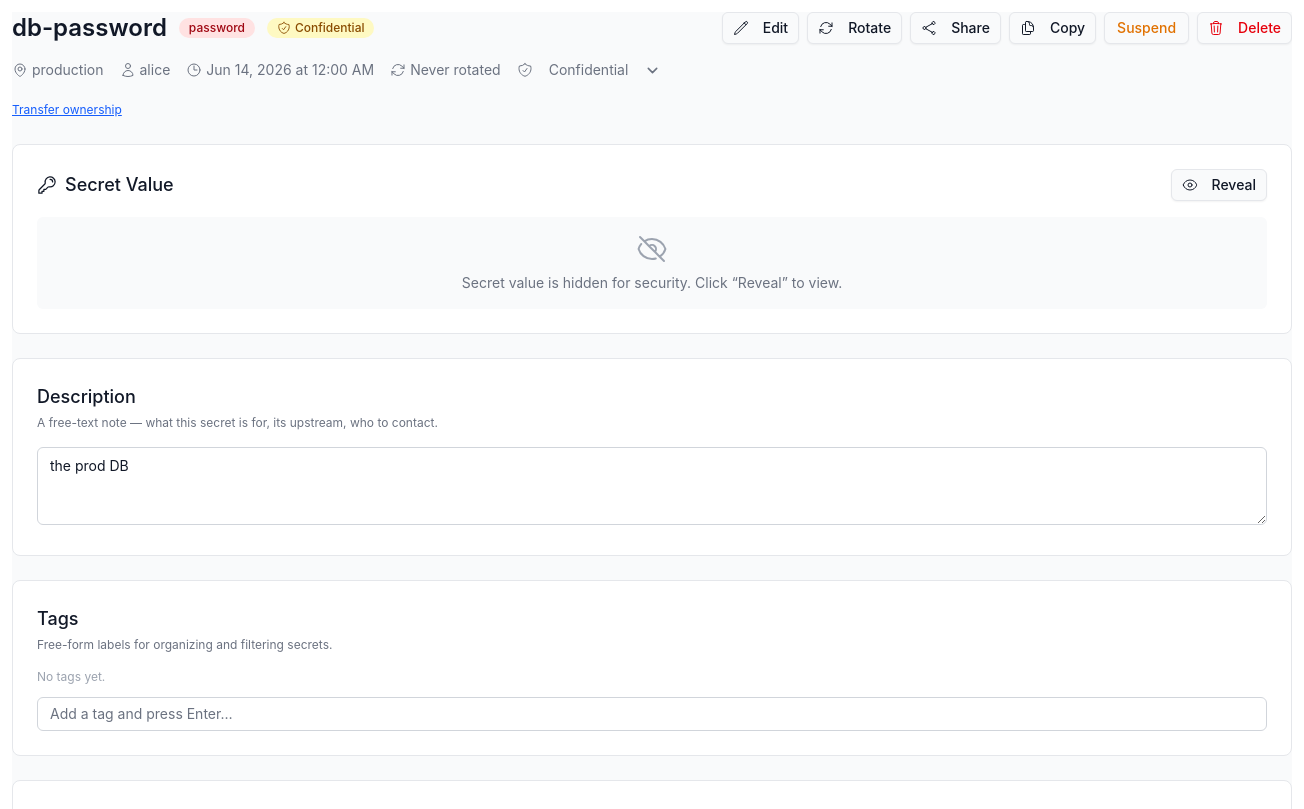
SecretDetailView description › discards a draft edit when Cancel is clicked
Replace the text in the text box showing "the prod DB" with "a different draft": (652, 486) [37,447,1267,525]
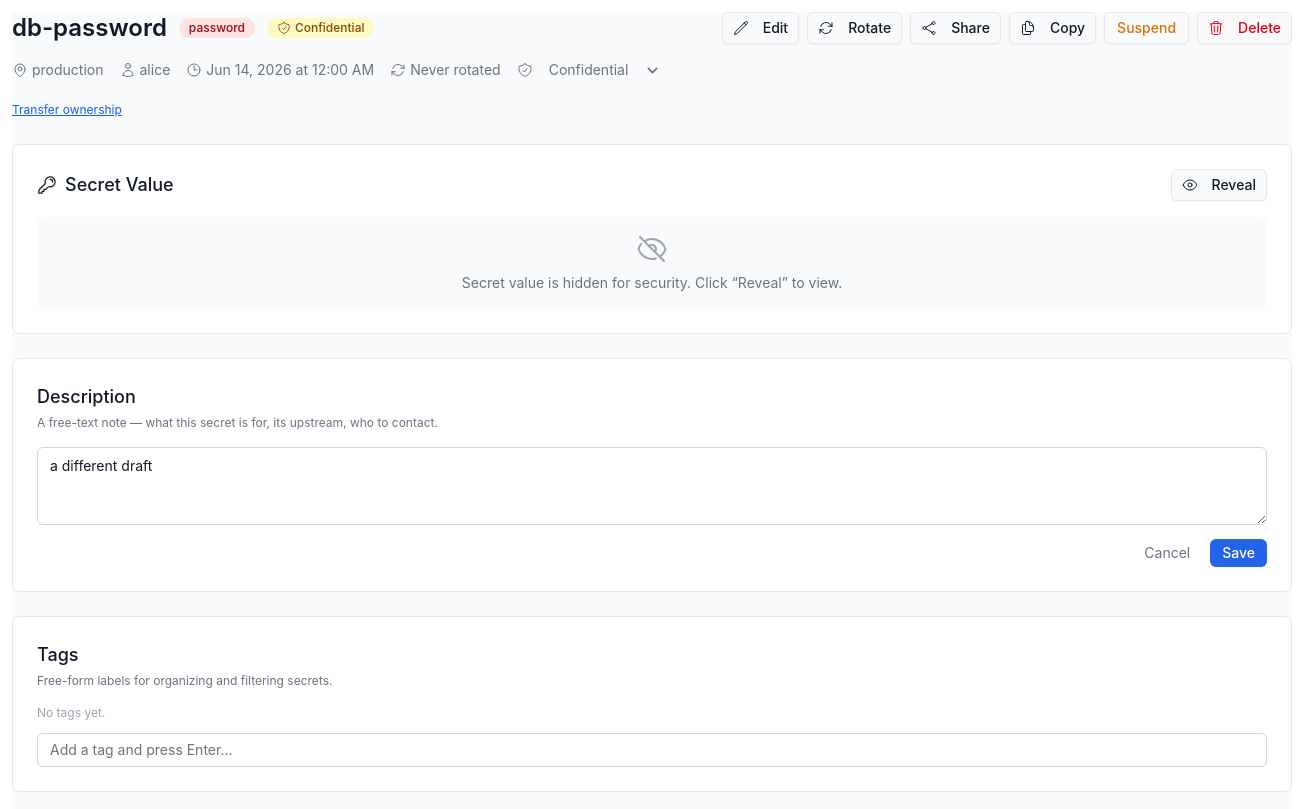
Now the button "Cancel" is shown
Click the button "Cancel": (1167, 553) [1132,539,1202,567]
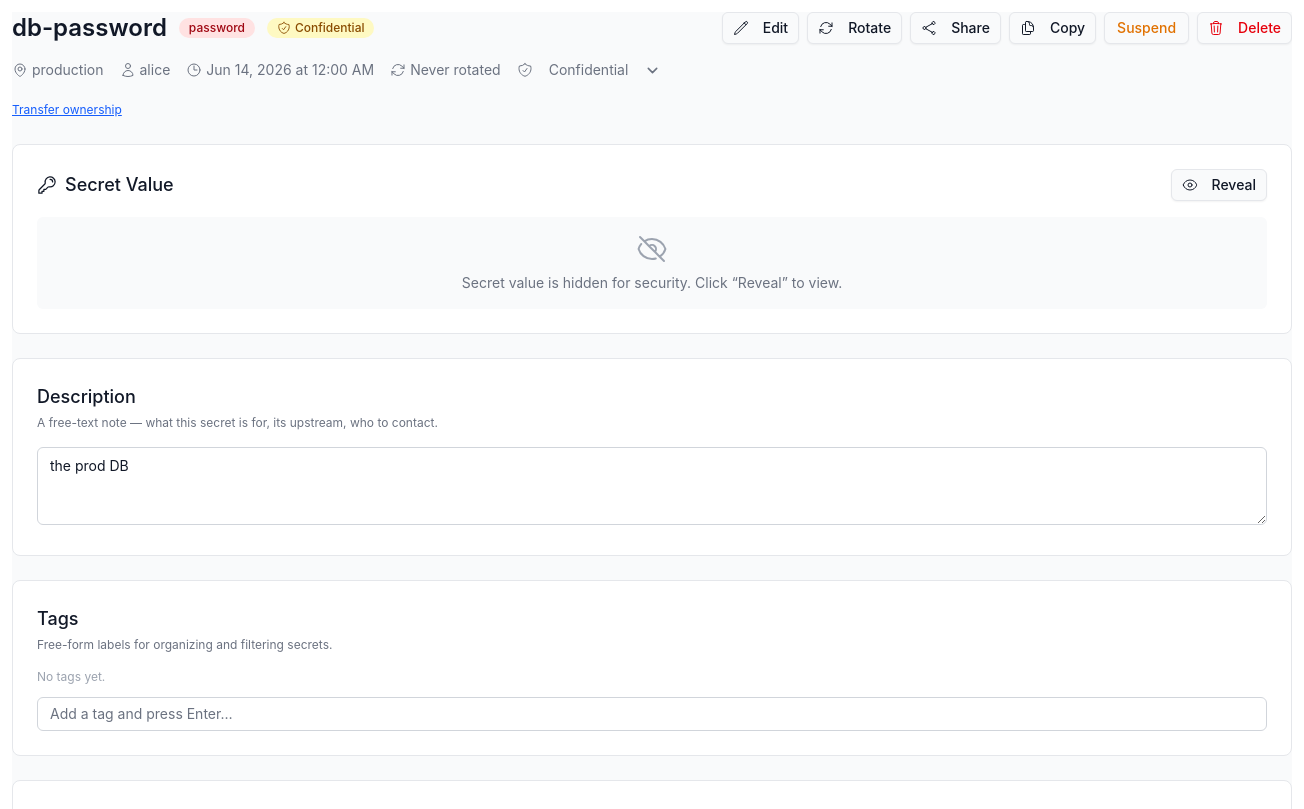
Now the text box showing "the prod DB" is shown, box [37,447,1267,525]
Now the button "Save" is gone
